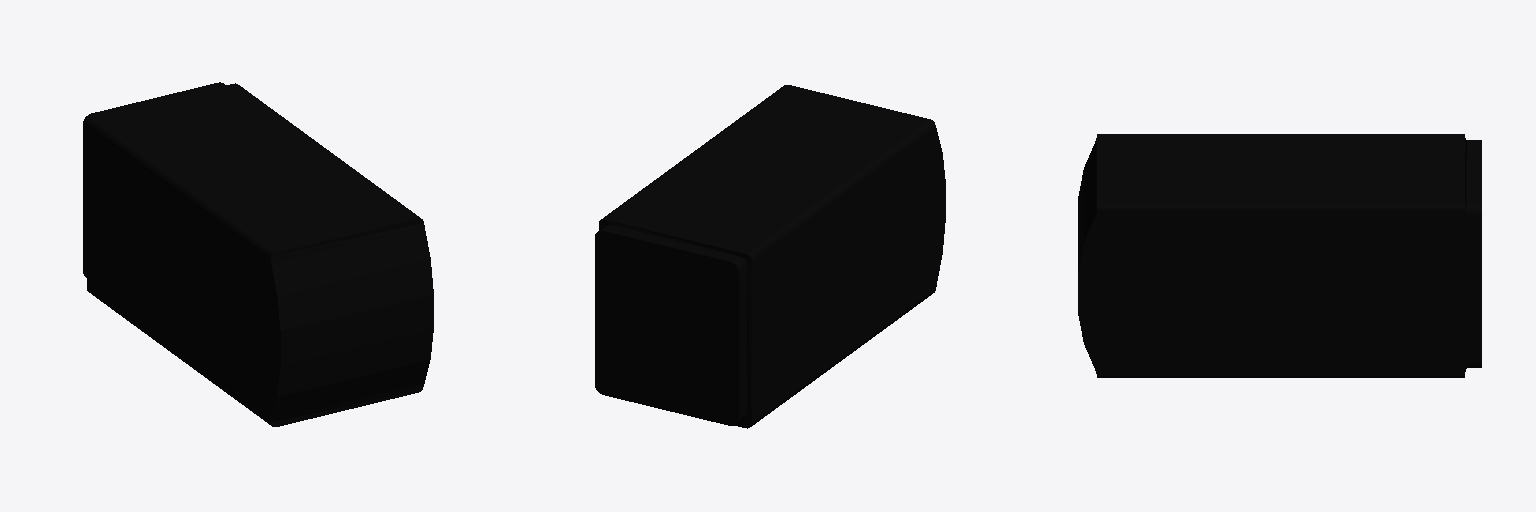
File: Drive_in_240L.obj
3 views of the same model, side by side, from view 1: azimuth 30°, elevation 25°; view 2: azimuth 150°, elevation 25°; view 3: azimuth 270°, elevation 25° (orthographic).
Visible parts, largest first — view 1: Cube_Cube.001; view 2: Cube_Cube.001; view 3: Cube_Cube.001.
Boxes of the visible parts, <box> form: Cube_Cube.001: <box>83,82,433,426</box>; Cube_Cube.001: <box>595,85,945,428</box>; Cube_Cube.001: <box>1078,134,1481,377</box>.
Bounding box in the file's own units: 0.7359 × 0.8 × 1.68.